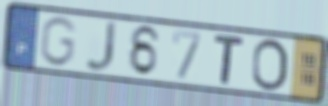6: (126, 24, 161, 78)
7: (169, 29, 203, 82)
G: (37, 15, 79, 69)
J: (82, 20, 119, 74)
O: (249, 37, 289, 94)
T: (212, 32, 247, 87)
